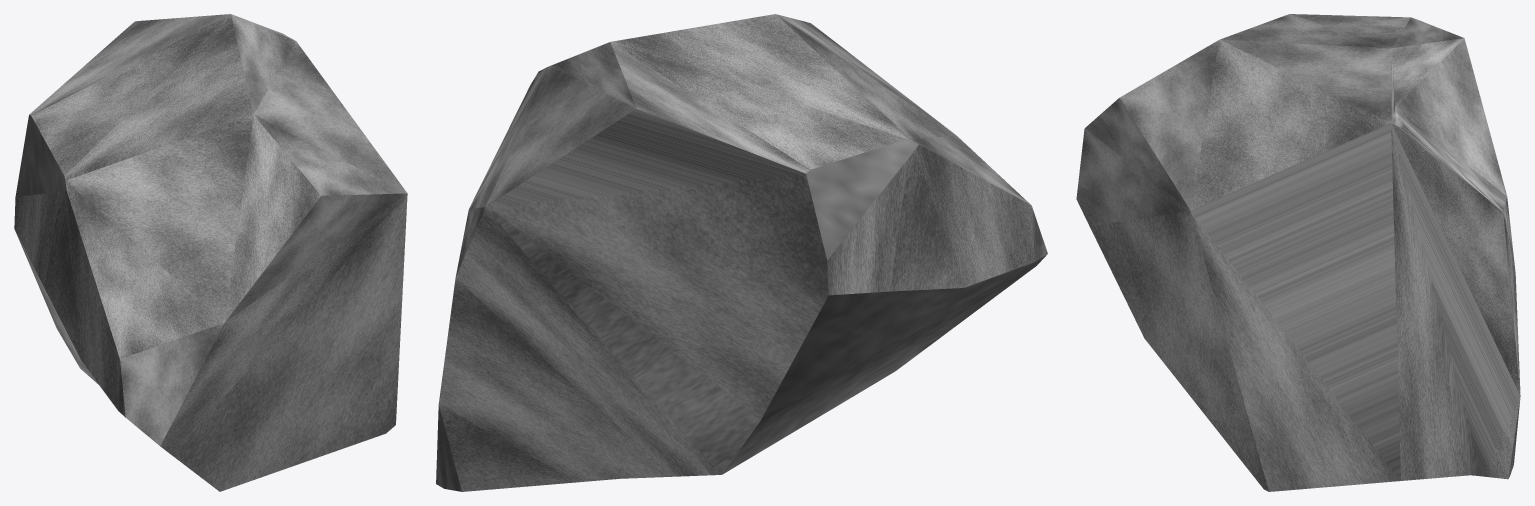
File: body_cell_073.fbx
The picture shows the model from 3 angles, left to right: view 1: azimuth 30°, elevation 25°; view 2: azimuth 150°, elevation 25°; view 3: azimuth 270°, elevation 25°; orthographic projection. The views are drawn at different scales.
Parts seen in each view (by area): view 1: body_cell.073; view 2: body_cell.073; view 3: body_cell.073.
Boxes of the visible parts, x1=… form: body_cell.073: x1=14, y1=14, x2=407, y2=491; body_cell.073: x1=436, y1=14, x2=1047, y2=491; body_cell.073: x1=1076, y1=14, x2=1520, y2=491.
Bounding box in the file's own units: 43.27 × 46.15 × 46.85.
